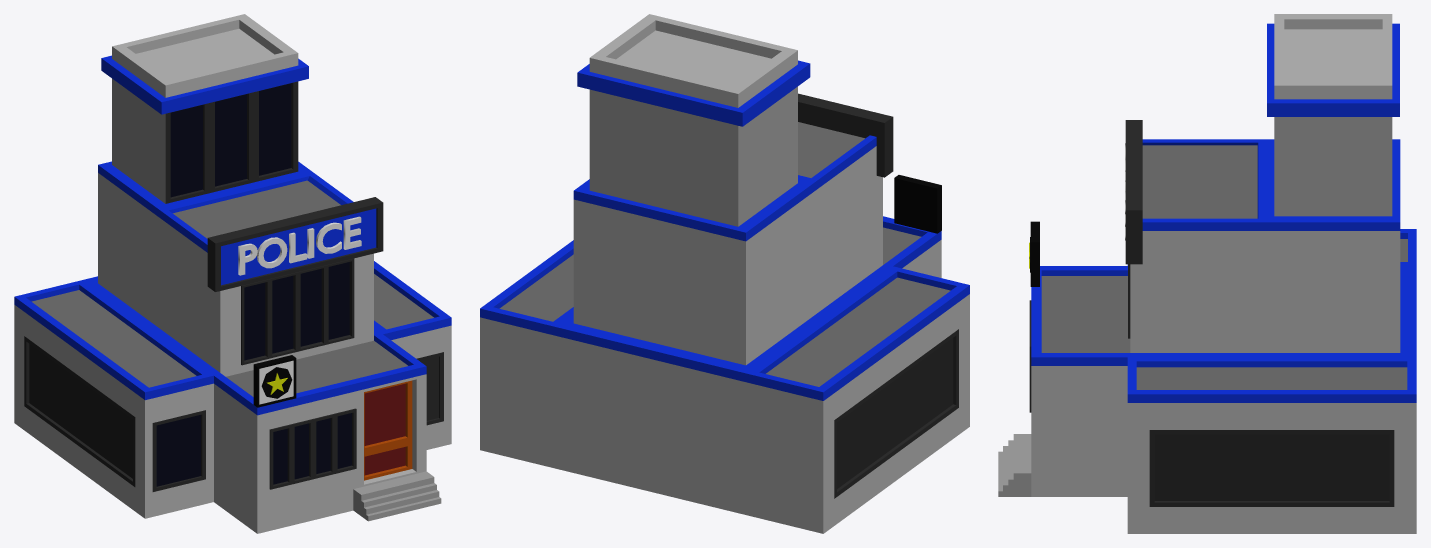
The model's file is Police_station.fbx.
3 views of the same model, side by side, from view 1: azimuth 30°, elevation 25°; view 2: azimuth 150°, elevation 25°; view 3: azimuth 270°, elevation 25° (orthographic). The views are drawn at different scales.
Parts seen in each view (by area): view 1: Cube; view 2: Cube; view 3: Cube.
Boxes of the visible parts, x1,y1,x2,y2 form: Cube: (14, 14, 451, 533); Cube: (480, 14, 969, 533); Cube: (998, 14, 1416, 533).
Size of the model in its own units: 974 by 1104 by 1042.
